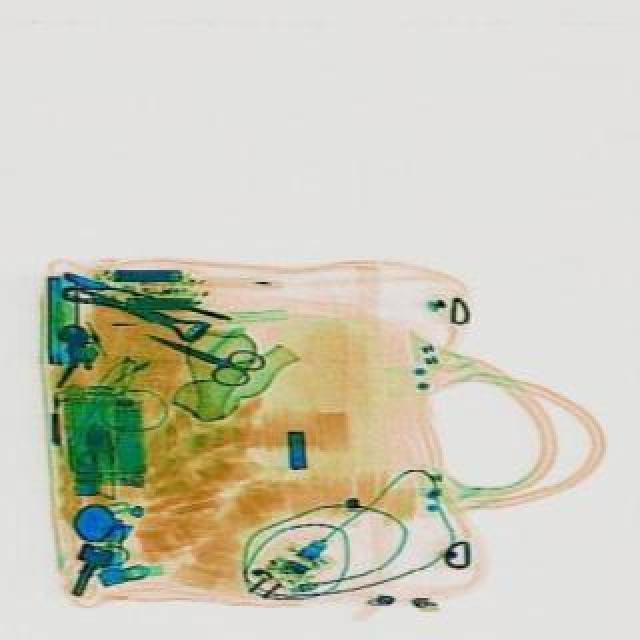pliers: (136, 314, 272, 394)
